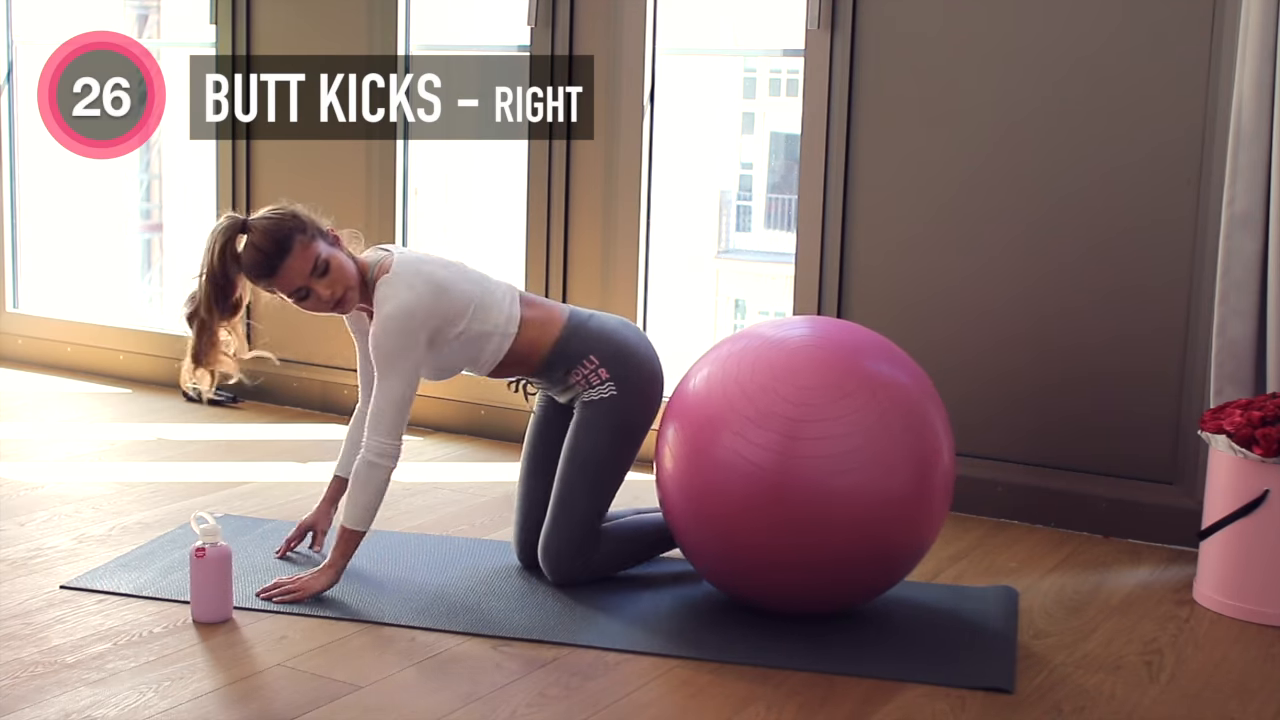yogaball: (649, 303, 965, 626)
